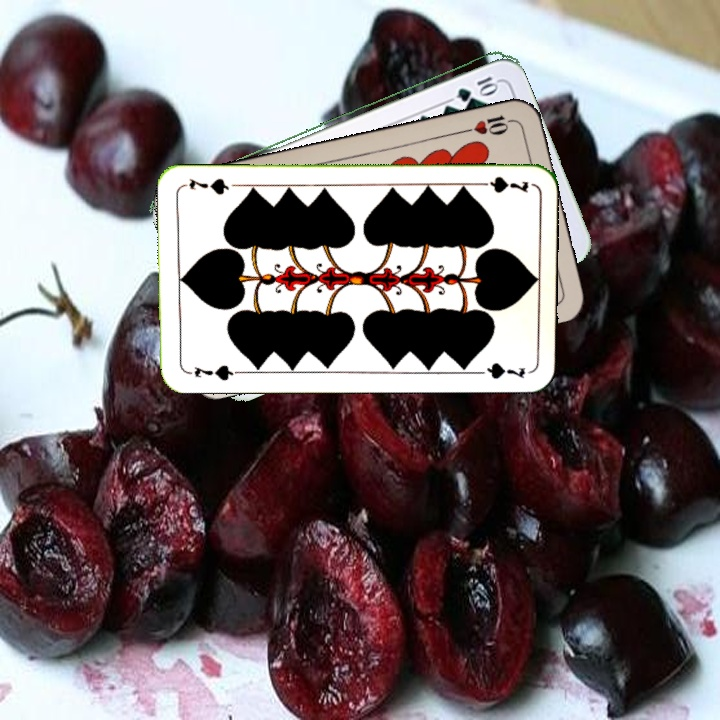G10: (452, 72, 500, 102)
G7: (472, 172, 531, 196), (183, 361, 242, 384)
H10: (459, 111, 518, 138)
